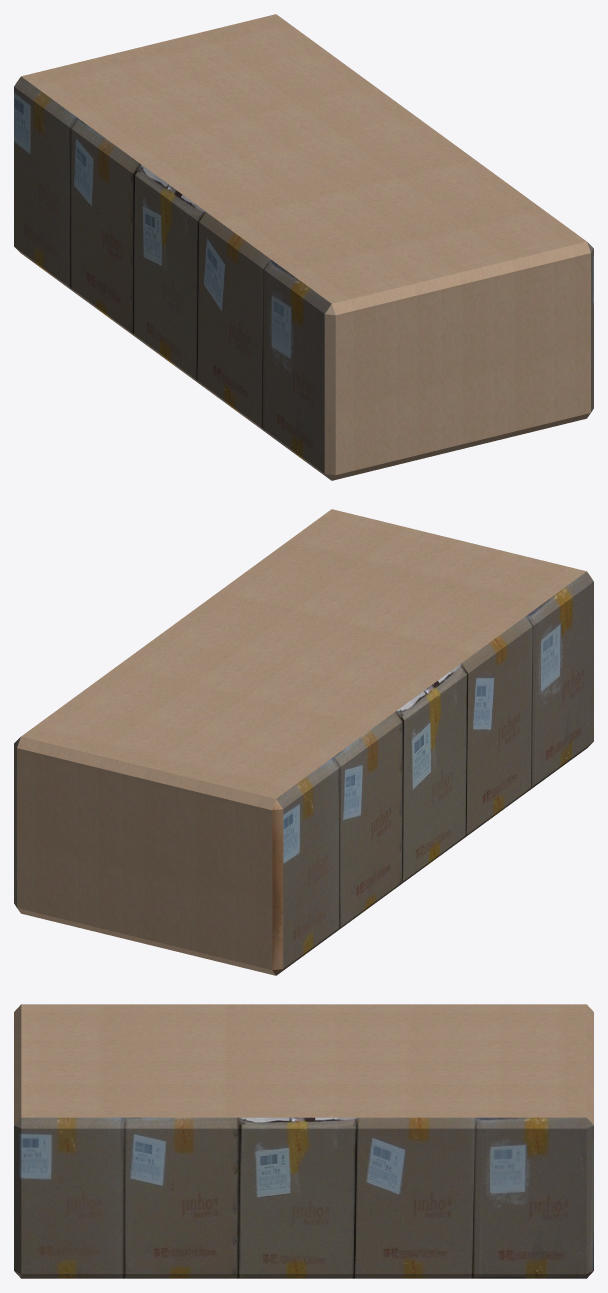
Rendered from jinho.FBX.
The picture shows the model from 3 angles, top to bottom: view 1: azimuth 30°, elevation 25°; view 2: azimuth 150°, elevation 25°; view 3: azimuth 270°, elevation 25°; orthographic projection. The views are drawn at different scales.
Parts seen in each view (by area): view 1: 对象103; view 2: 对象103; view 3: 对象103.
Boxes of the visible parts, x1,y1,x2,y2 form: 对象103: [14, 14, 593, 480]; 对象103: [14, 509, 593, 975]; 对象103: [14, 1004, 593, 1278].
Bounding box in the file's own units: 0.7354 × 1.51 × 0.4622.
